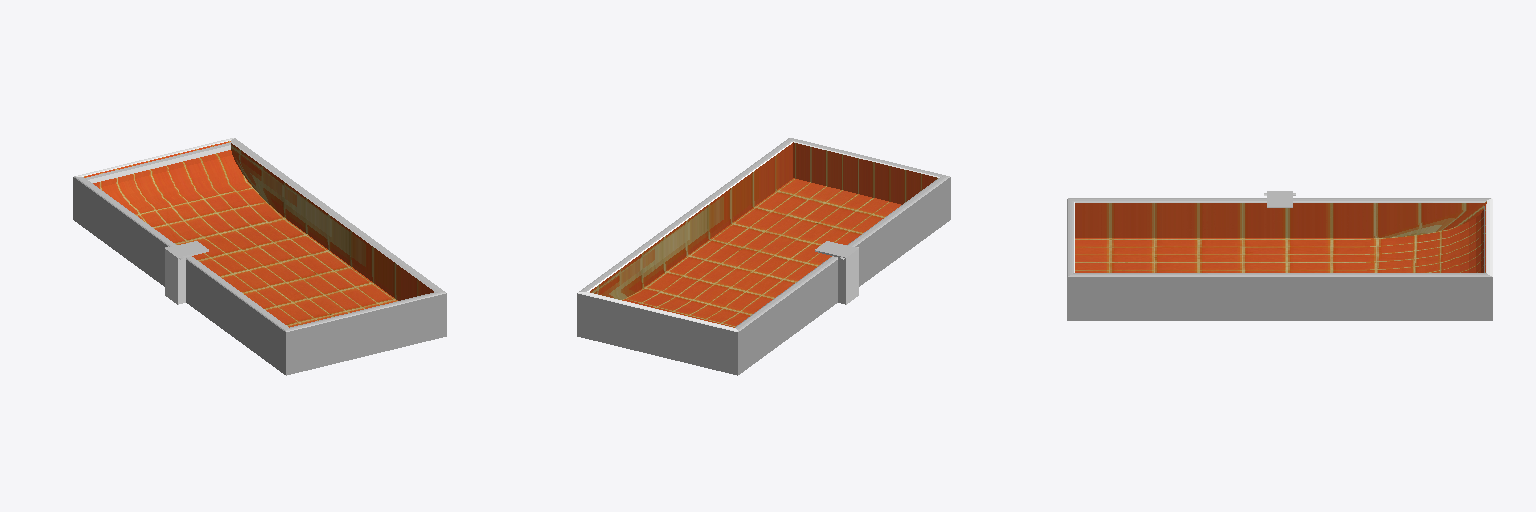
3 renders of one model, left to right at view 1: azimuth 30°, elevation 25°; view 2: azimuth 150°, elevation 25°; view 3: azimuth 270°, elevation 25°, orthographic.
Visible parts, largest first — view 1: Bathtun; view 2: Bathtun; view 3: Bathtun.
Part boxes in pixels (bbox=[...]): Bathtun: bbox=[73, 138, 446, 375]; Bathtun: bbox=[577, 138, 950, 375]; Bathtun: bbox=[1067, 191, 1492, 320].
Size of the model in its own units: 300 by 79.48 by 652.
5 materials, 2 textured.